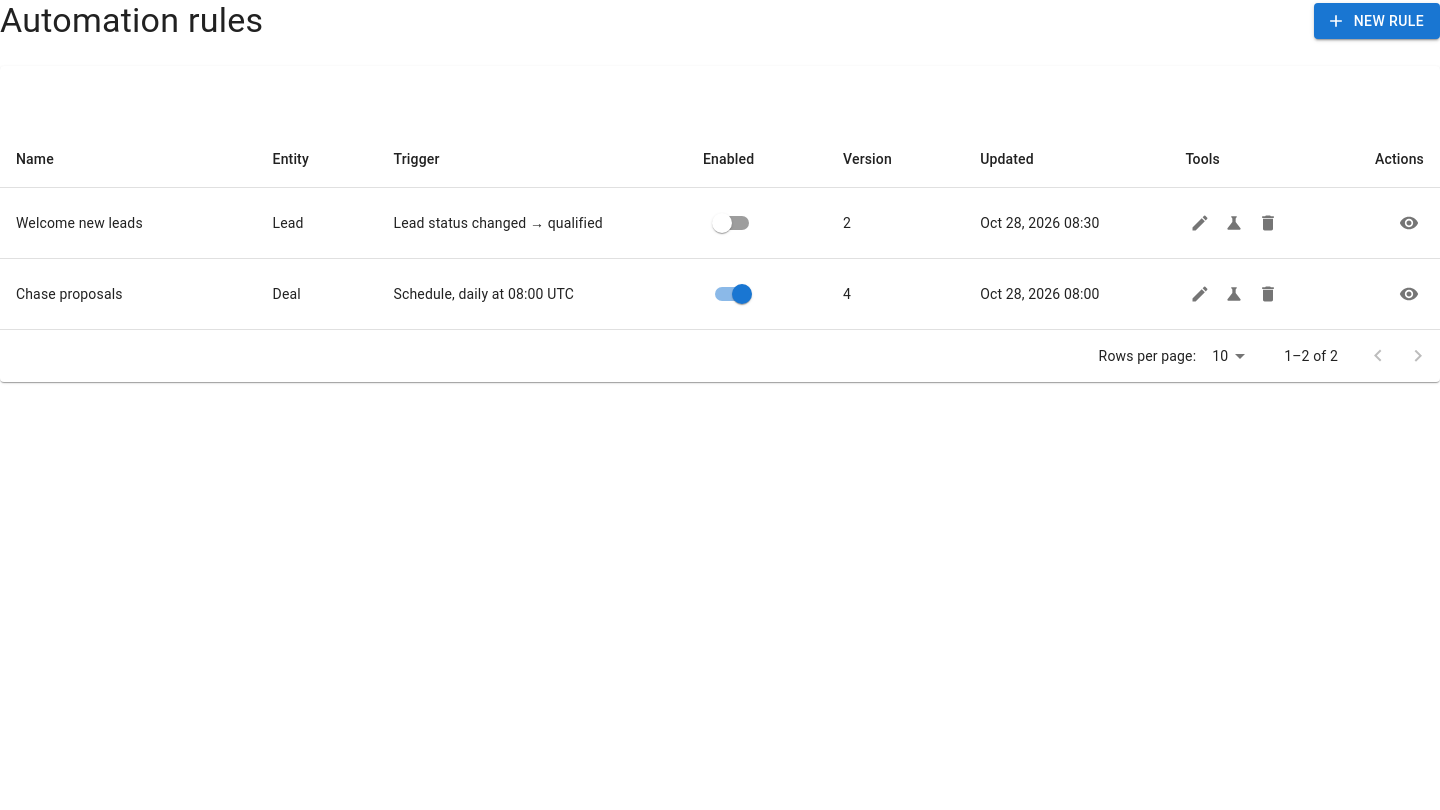
Test: AutomationRuleList › opens the dry-run dialog from the Tools column without opening the editor
Click the button named "Dry run" in the row of "Chase proposals" at (1234, 294), box [1219, 279, 1249, 309]
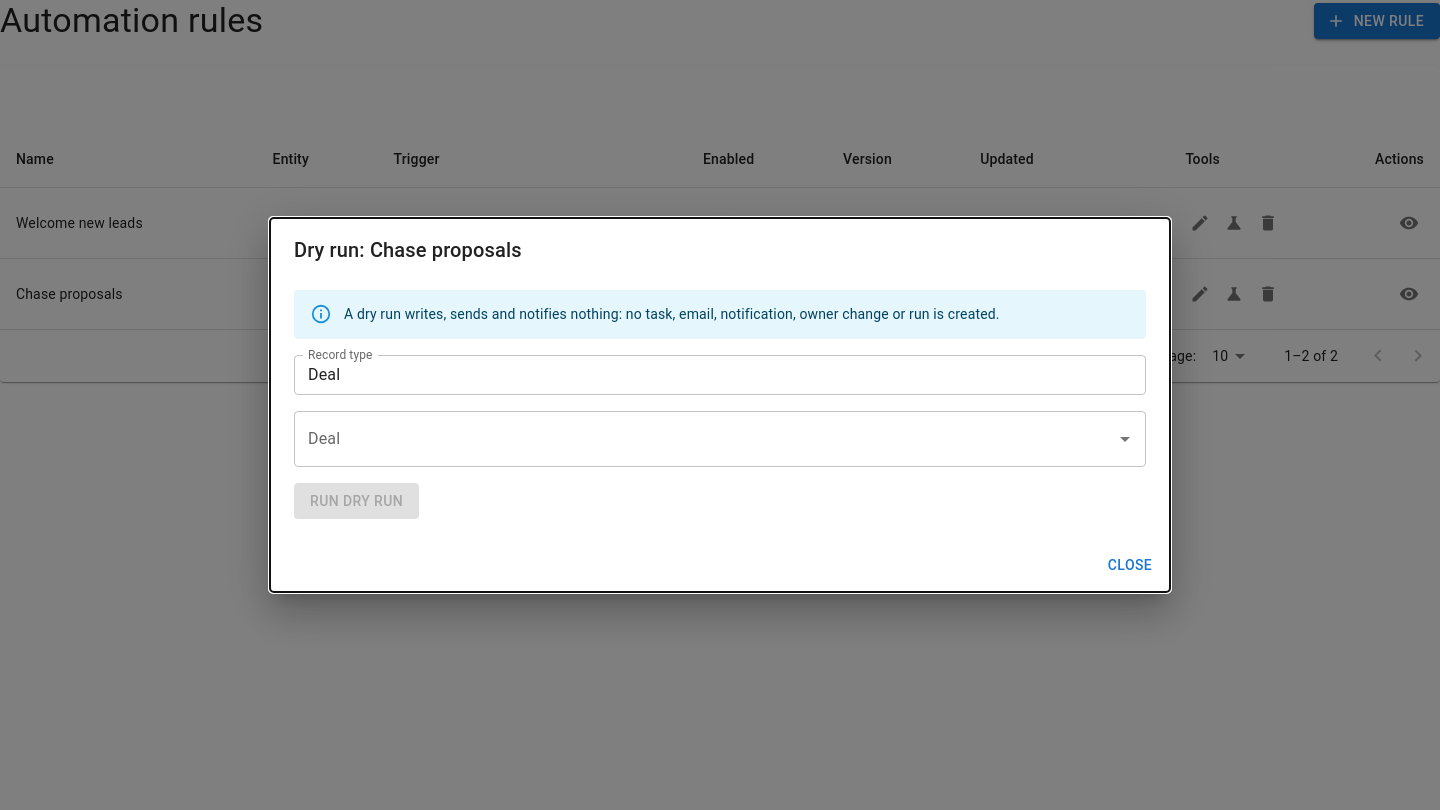
Now the field labelled "Record type" holds "Deal", box [294, 354, 1146, 394]
